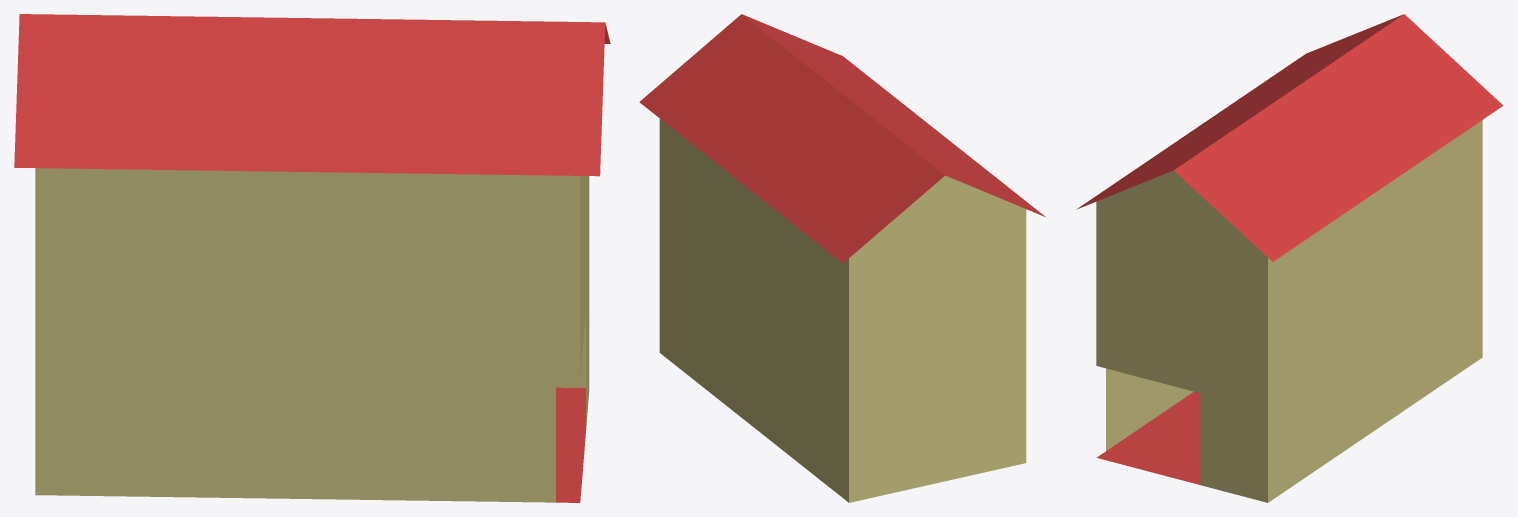
3 renders of one model, left to right at view 1: azimuth 30°, elevation 25°; view 2: azimuth 150°, elevation 25°; view 3: azimuth 270°, elevation 25°, orthographic. The views are drawn at different scales.
Bounding box in the file's own units: 24.24 × 21.05 × 17.1.
